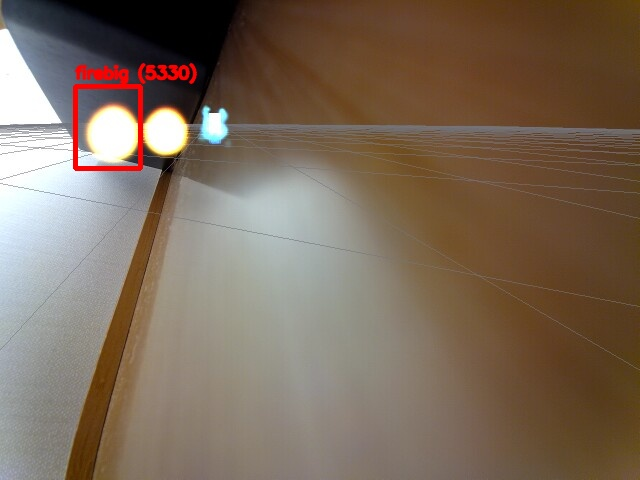firebig: (75, 86, 140, 168)
